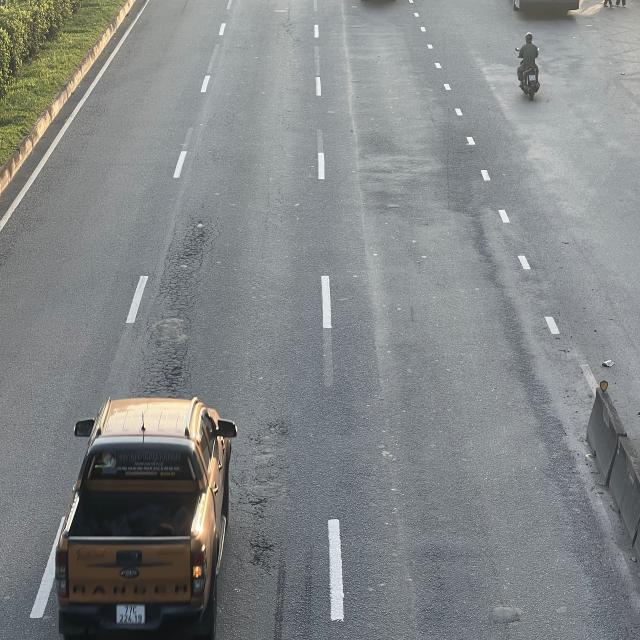car: (57, 391, 239, 637)
